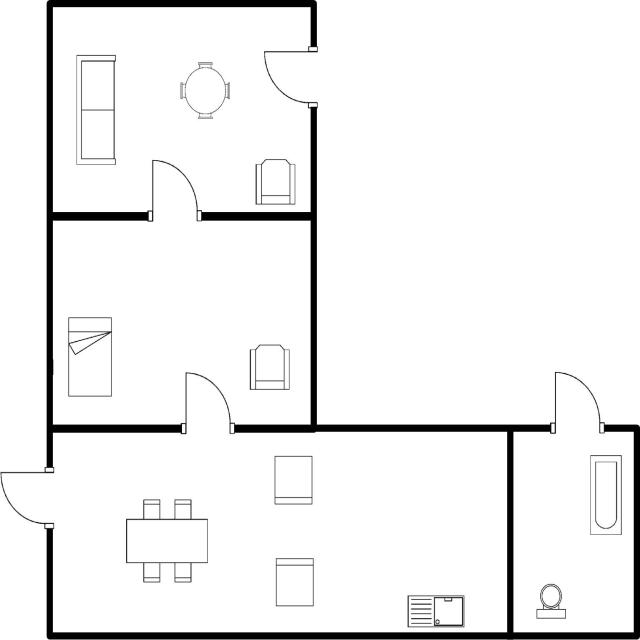armchair: (243, 340, 293, 396), (250, 154, 298, 208)
bed: (63, 312, 115, 402)
dining_table: (122, 493, 212, 586)
large_sink: (532, 578, 568, 622)
large_sofa: (71, 48, 118, 168)
round_table: (176, 58, 234, 124)
sink: (402, 590, 468, 630)
small_sofa: (268, 452, 316, 508), (272, 554, 318, 610)
tub: (584, 450, 626, 540)
